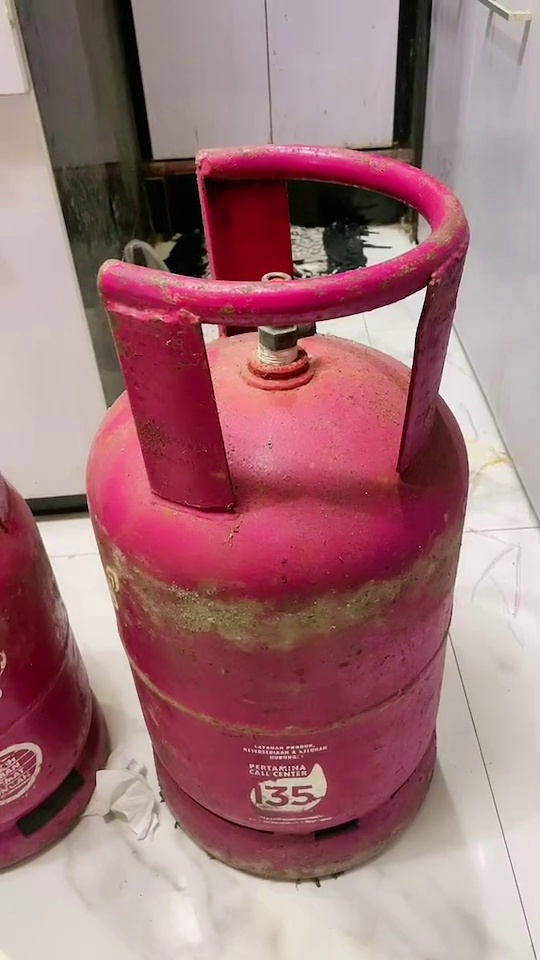bright_gas: (84, 135, 473, 884), (1, 473, 114, 880)
